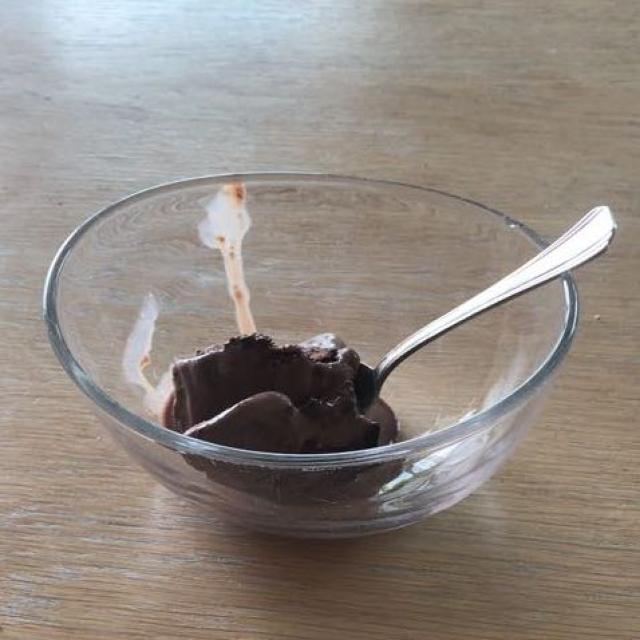ice-cream: (165, 333, 388, 452)
